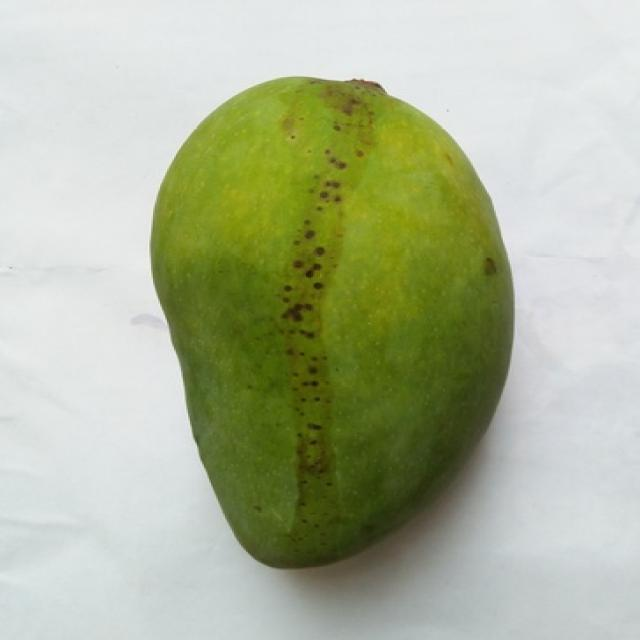Mango: (153, 77, 512, 566)
